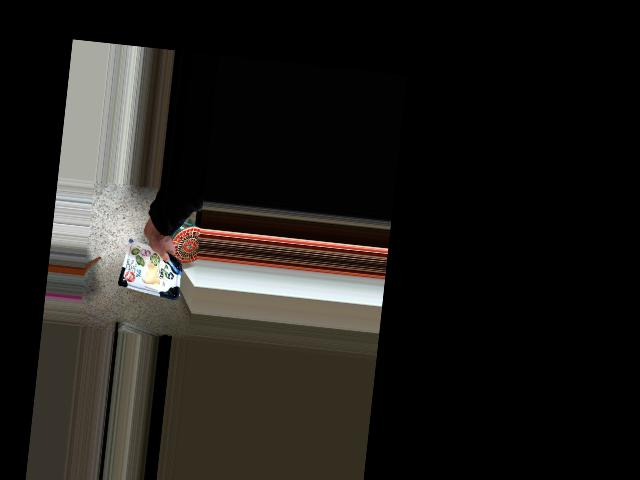cheese: (120, 229, 174, 283)
